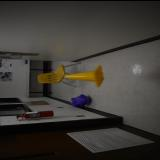cone: (64, 64, 105, 87)
cube: (74, 93, 92, 105), (70, 96, 86, 105)
